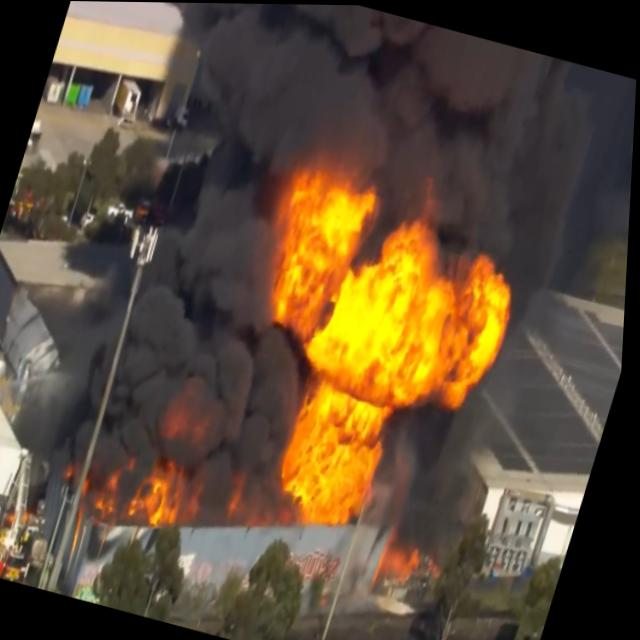Fire: (139, 140, 573, 596)
